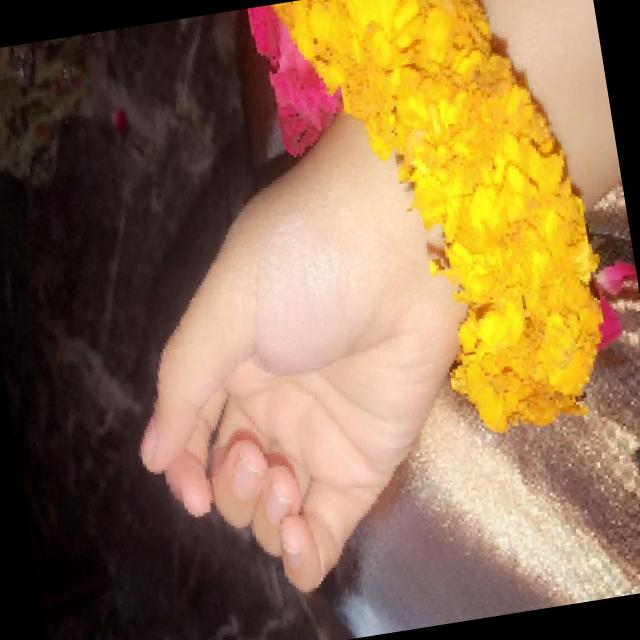Nail: (233, 458, 264, 499), (267, 483, 292, 519), (283, 531, 302, 567), (142, 417, 157, 460)
